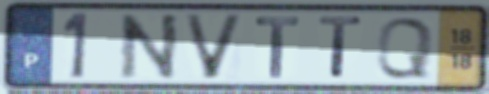1: (59, 10, 90, 82)
N: (117, 11, 182, 81)
Q: (373, 15, 437, 81)
T: (316, 14, 366, 82), (253, 15, 303, 81)
V: (180, 12, 248, 82)
